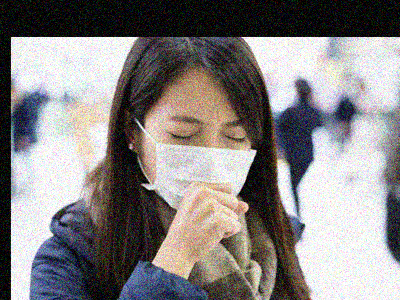with_mask: (142, 111, 256, 212)
